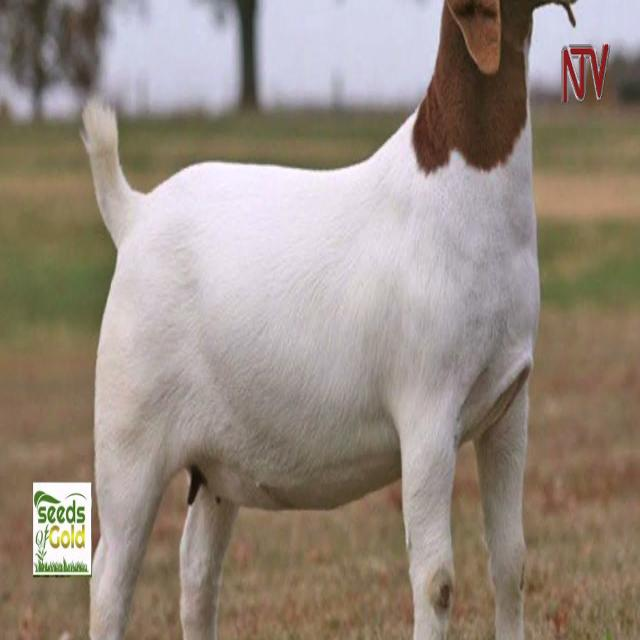goat: (129, 96, 533, 561)
